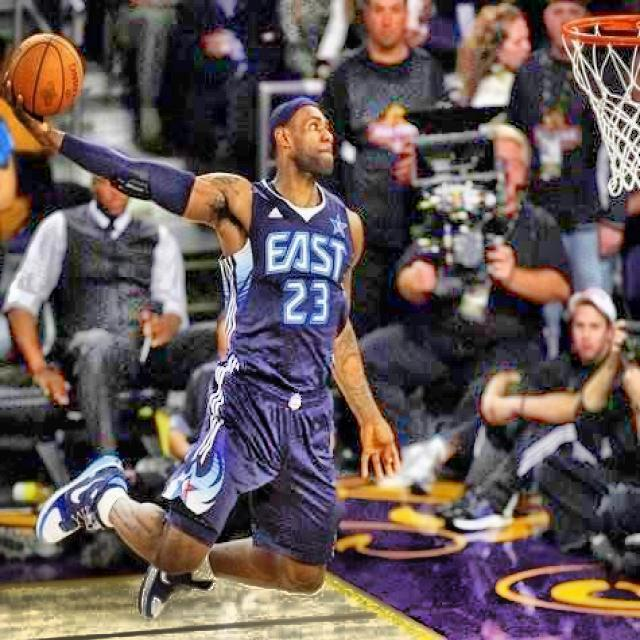board: (8, 32, 84, 118)
rim: (560, 13, 640, 192)
